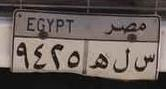2: (49, 44, 66, 70)
4: (32, 43, 47, 72)
5: (66, 49, 84, 71)
9: (17, 42, 30, 70)
haa: (90, 52, 110, 72)
laam: (113, 47, 131, 77)
seen: (134, 50, 156, 74)
